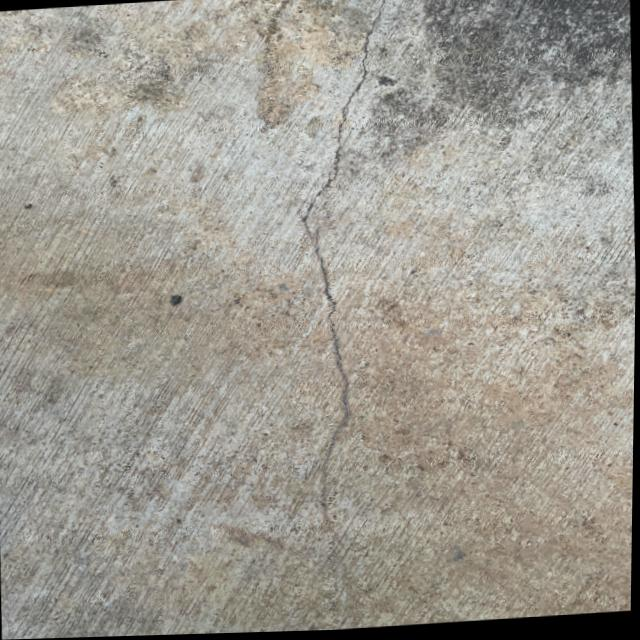Crack: (278, 23, 445, 633)
